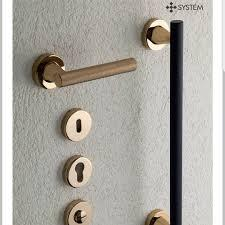handle: (160, 14, 192, 225), (46, 48, 142, 99)
